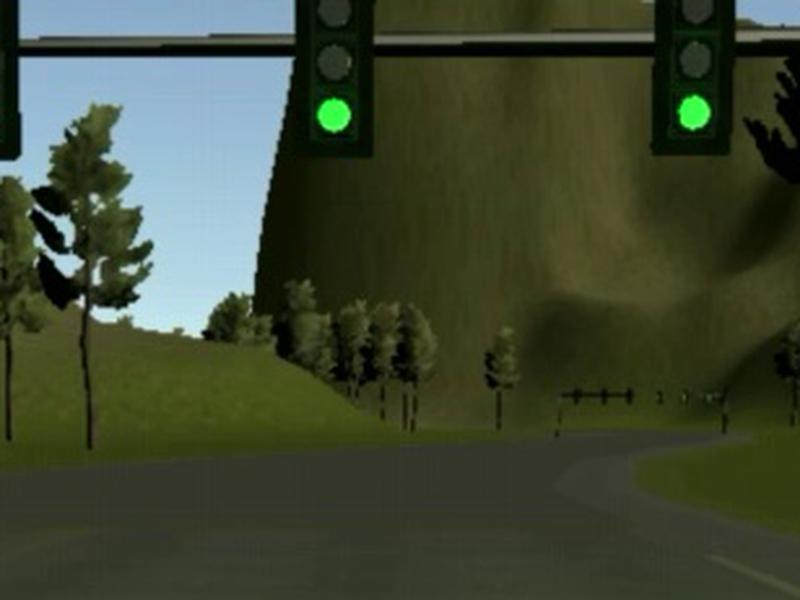Green: (650, 1, 737, 156), (293, 1, 375, 158)
